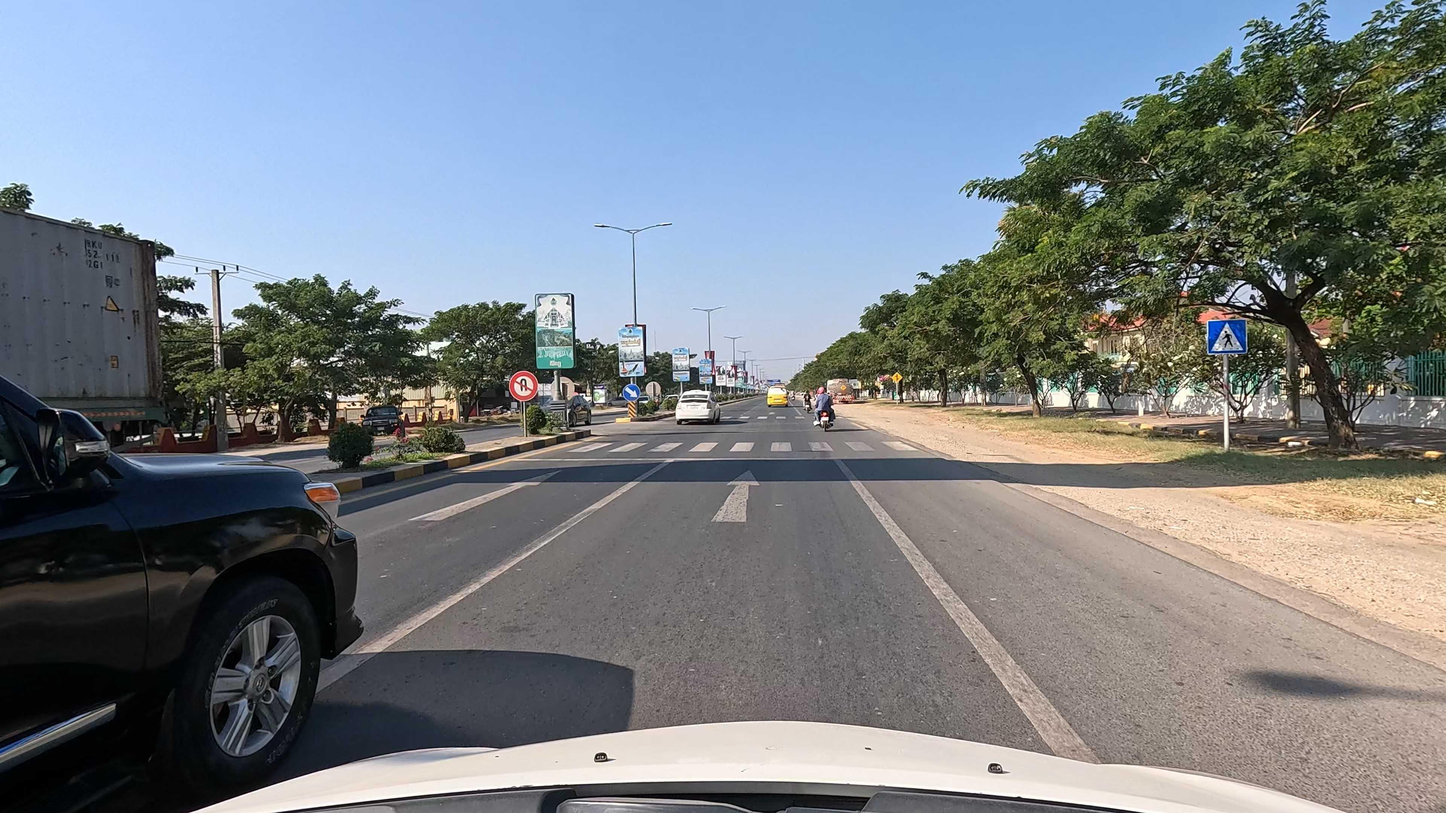keep_right: (623, 384, 641, 402)
no_u_turn: (508, 370, 539, 402)
offset_road_junction_left_right: (891, 372, 903, 383)
pedestrian_crossing: (1207, 318, 1248, 356)
